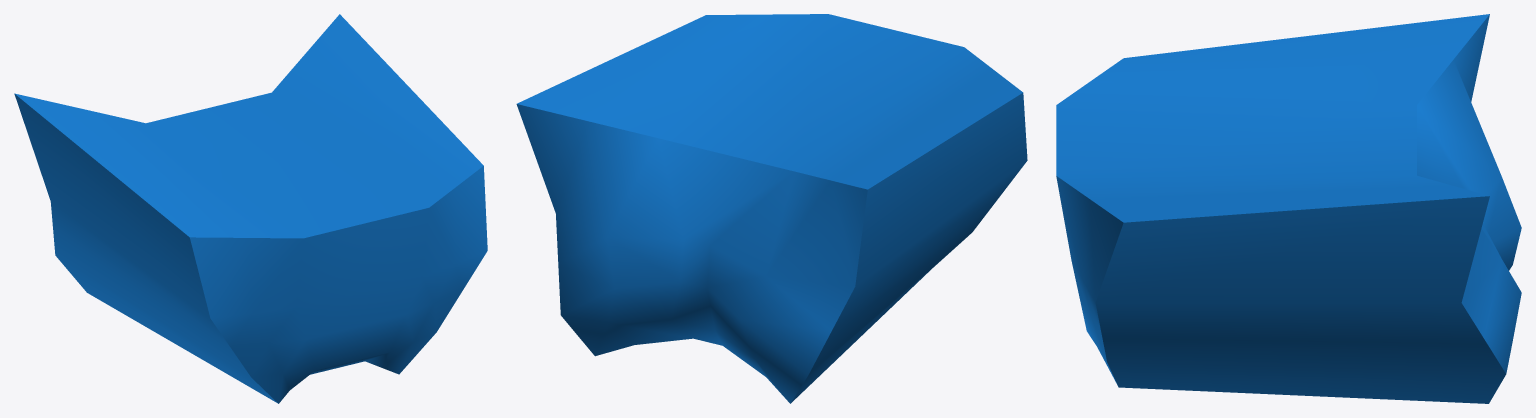
Rendered from HotPants.FBX.
3 renders of one model, left to right at view 1: azimuth 30°, elevation 25°; view 2: azimuth 150°, elevation 25°; view 3: azimuth 270°, elevation 25°, orthographic. The views are drawn at different scales.
Parts seen in each view (by area): view 1: HotPants; view 2: HotPants; view 3: HotPants.
Boxes of the visible parts, bbox=[...] form: HotPants: bbox=[14, 14, 487, 403]; HotPants: bbox=[516, 14, 1027, 403]; HotPants: bbox=[1056, 14, 1521, 403].
Bounding box in the file's own units: 32.84 × 20.92 × 35.48.
